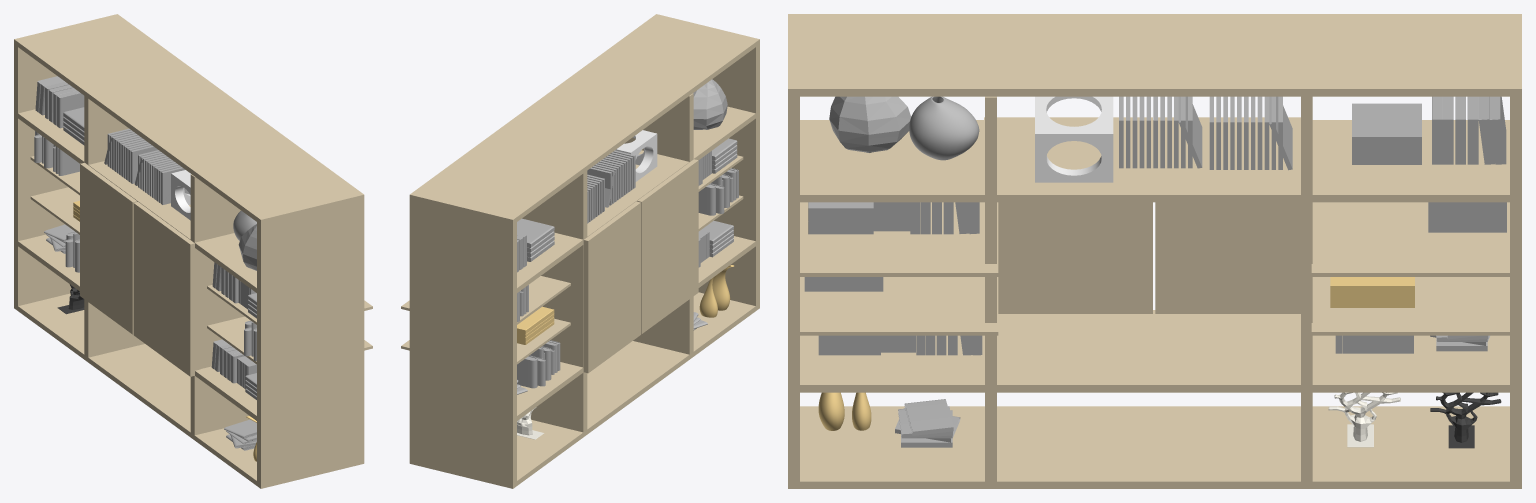
The model's file is shelf2.dae.
3 views of the same model, side by side, from view 1: azimuth 30°, elevation 25°; view 2: azimuth 150°, elevation 25°; view 3: azimuth 270°, elevation 25° (orthographic). The views are drawn at different scales.
Visible parts, largest first — view 1: Rectangle48, Rectangle52, Rectangle55, Circle230, Box01.002, books_obj_03, Rectangle12, Rectangle54, books_obj_47, Box1579381, books_obj_86, books_obj_68 (+1 smaller); view 2: Rectangle48, Box01.002, Rectangle12, books_obj_58, Circle230, Rectangle52, books_obj_46, books_obj_11, ping-1, books_obj_101, ping-2, books_obj_51; view 3: Rectangle48, Rectangle12, Rectangle55, Rectangle54, Rectangle52, Box01.002, Box01.001, Circle200, books_obj_46, books_obj_58, Box03, books_obj_68 (+12 smaller).
Boxes of the visible parts, x1,y1,x2,y2 form: Rectangle48: [14, 14, 364, 488]; Rectangle52: [30, 187, 79, 234]; Rectangle55: [207, 316, 372, 364]; Circle230: [171, 173, 190, 220]; Box01.002: [238, 224, 256, 270]; books_obj_03: [57, 90, 84, 128]; Rectangle12: [30, 156, 79, 195]; Rectangle54: [207, 285, 372, 324]; books_obj_47: [237, 356, 256, 388]; Box1579381: [161, 167, 189, 204]; books_obj_86: [58, 148, 79, 175]; books_obj_68: [224, 419, 256, 438]; Rectangle48: [409, 14, 759, 488]; Box01.002: [693, 79, 727, 129]; Rectangle12: [401, 276, 570, 324]; books_obj_58: [517, 306, 554, 344]; Circle230: [626, 133, 657, 181]; Rectangle52: [401, 318, 570, 364]; books_obj_46: [517, 218, 554, 247]; books_obj_11: [517, 356, 537, 388]; ping-1: [712, 265, 733, 310]; books_obj_101: [698, 184, 715, 215]; ping-2: [699, 277, 717, 317]; books_obj_51: [701, 221, 733, 244]; Rectangle48: [788, 14, 1521, 488]; Rectangle12: [1311, 202, 1509, 276]; Rectangle55: [800, 277, 998, 335]; Rectangle54: [800, 202, 998, 276]; Rectangle52: [1311, 277, 1509, 335]; Box01.002: [829, 96, 911, 152]; Box01.001: [909, 96, 979, 160]; Circle200: [1035, 128, 1113, 182]; books_obj_46: [1352, 103, 1421, 143]; books_obj_58: [1330, 277, 1414, 307]; Box03: [1430, 392, 1501, 442]; books_obj_68: [904, 399, 953, 435].
Size of the model in its own units: 0.9847 by 3.49 by 2.1.
